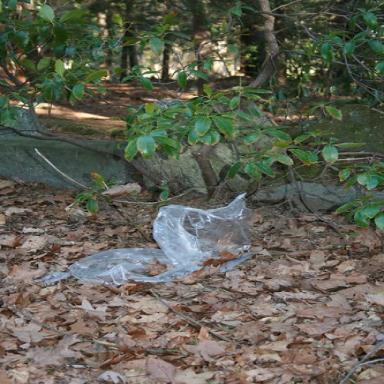plasticbag: (64, 192, 255, 284)
